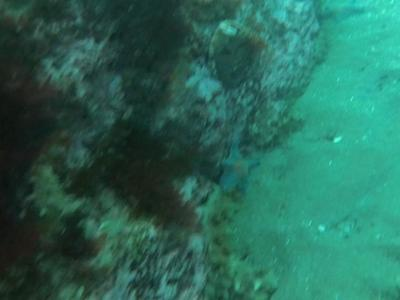holothurian: (200, 185, 293, 295)
